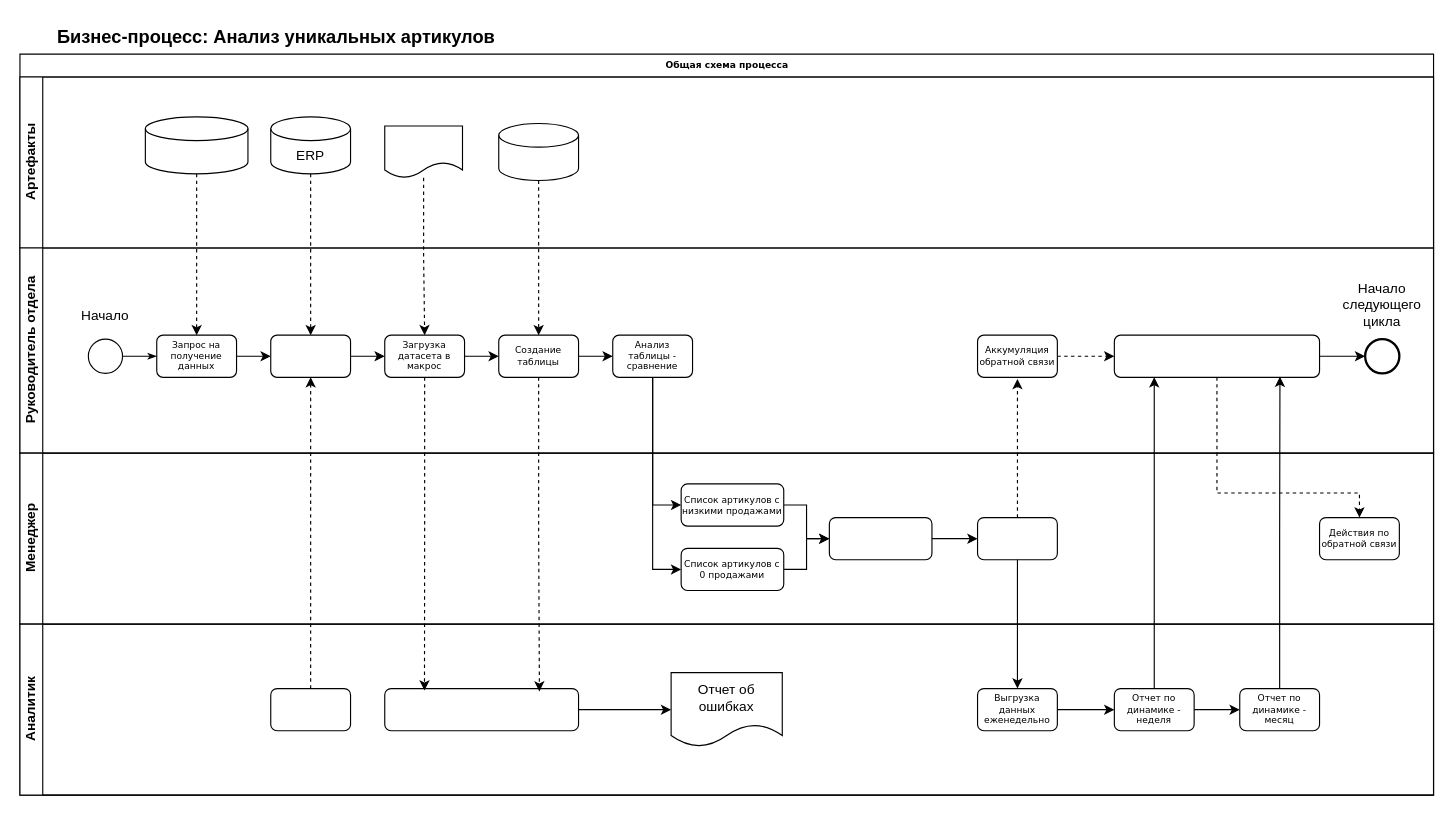
Some shapes in this 1454 by 815 pixel diagram are drawn without their labels. Here are the shapes that lost their labels. From the top down, the box of each, then its label:
(144, 116, 248, 174): Система прав доступа
(384, 125, 462, 178): Инструкция по макросу
(498, 122, 579, 180): Макрос
(270, 334, 351, 377): Получение датасета
(1113, 334, 1320, 377): Анализ отчетности
(828, 516, 932, 560): Отработка 100% клиентов в течение месяца
(976, 516, 1057, 560): Обратная связь еженедельно
(270, 687, 351, 731): Помощь с выгрузкой по необходимости
(384, 687, 579, 731): Сбор информации об ошибках
